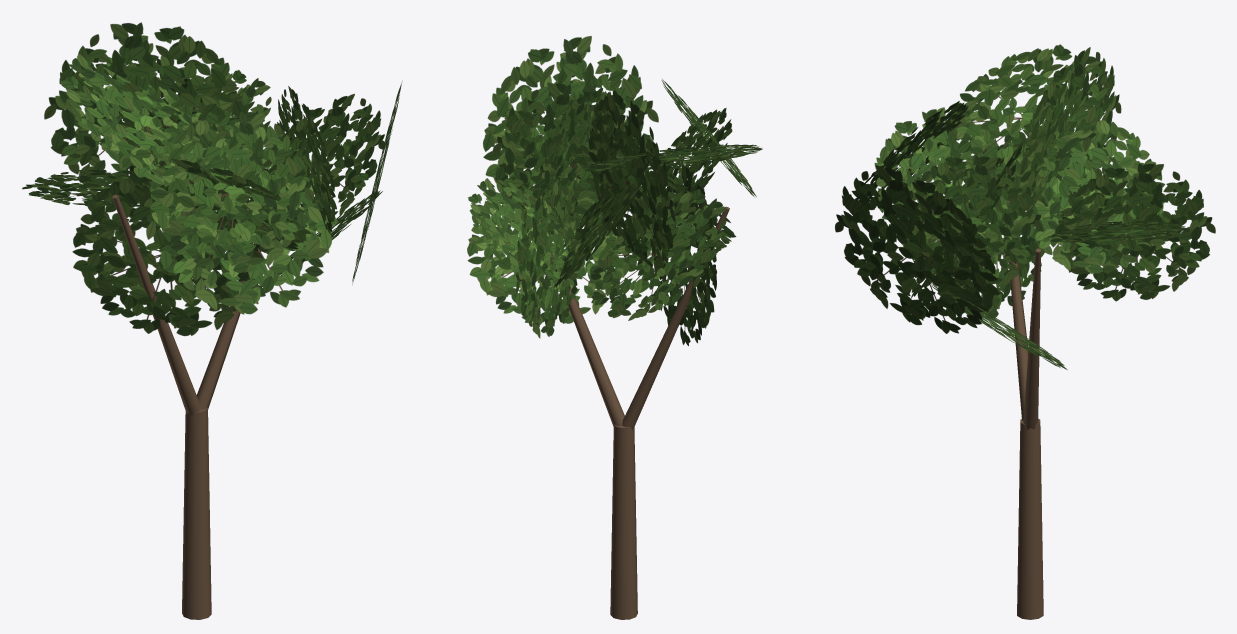
The model's file is tree_lod1.glb.
3 renders of one model, left to right at view 1: azimuth 30°, elevation 25°; view 2: azimuth 150°, elevation 25°; view 3: azimuth 270°, elevation 25°, orthographic. The views are drawn at different scales.
Parts seen in each view (by area): view 1: tree_lod1; view 2: tree_lod1; view 3: tree_lod1.
Boxes of the visible parts, <box> form: tree_lod1: <box>22,22,402,619</box>; tree_lod1: <box>467,36,762,619</box>; tree_lod1: <box>835,44,1215,619</box>.
Bounding box in the file's own units: 5.17 × 7.79 × 5.23.
2 materials, 1 textured.
